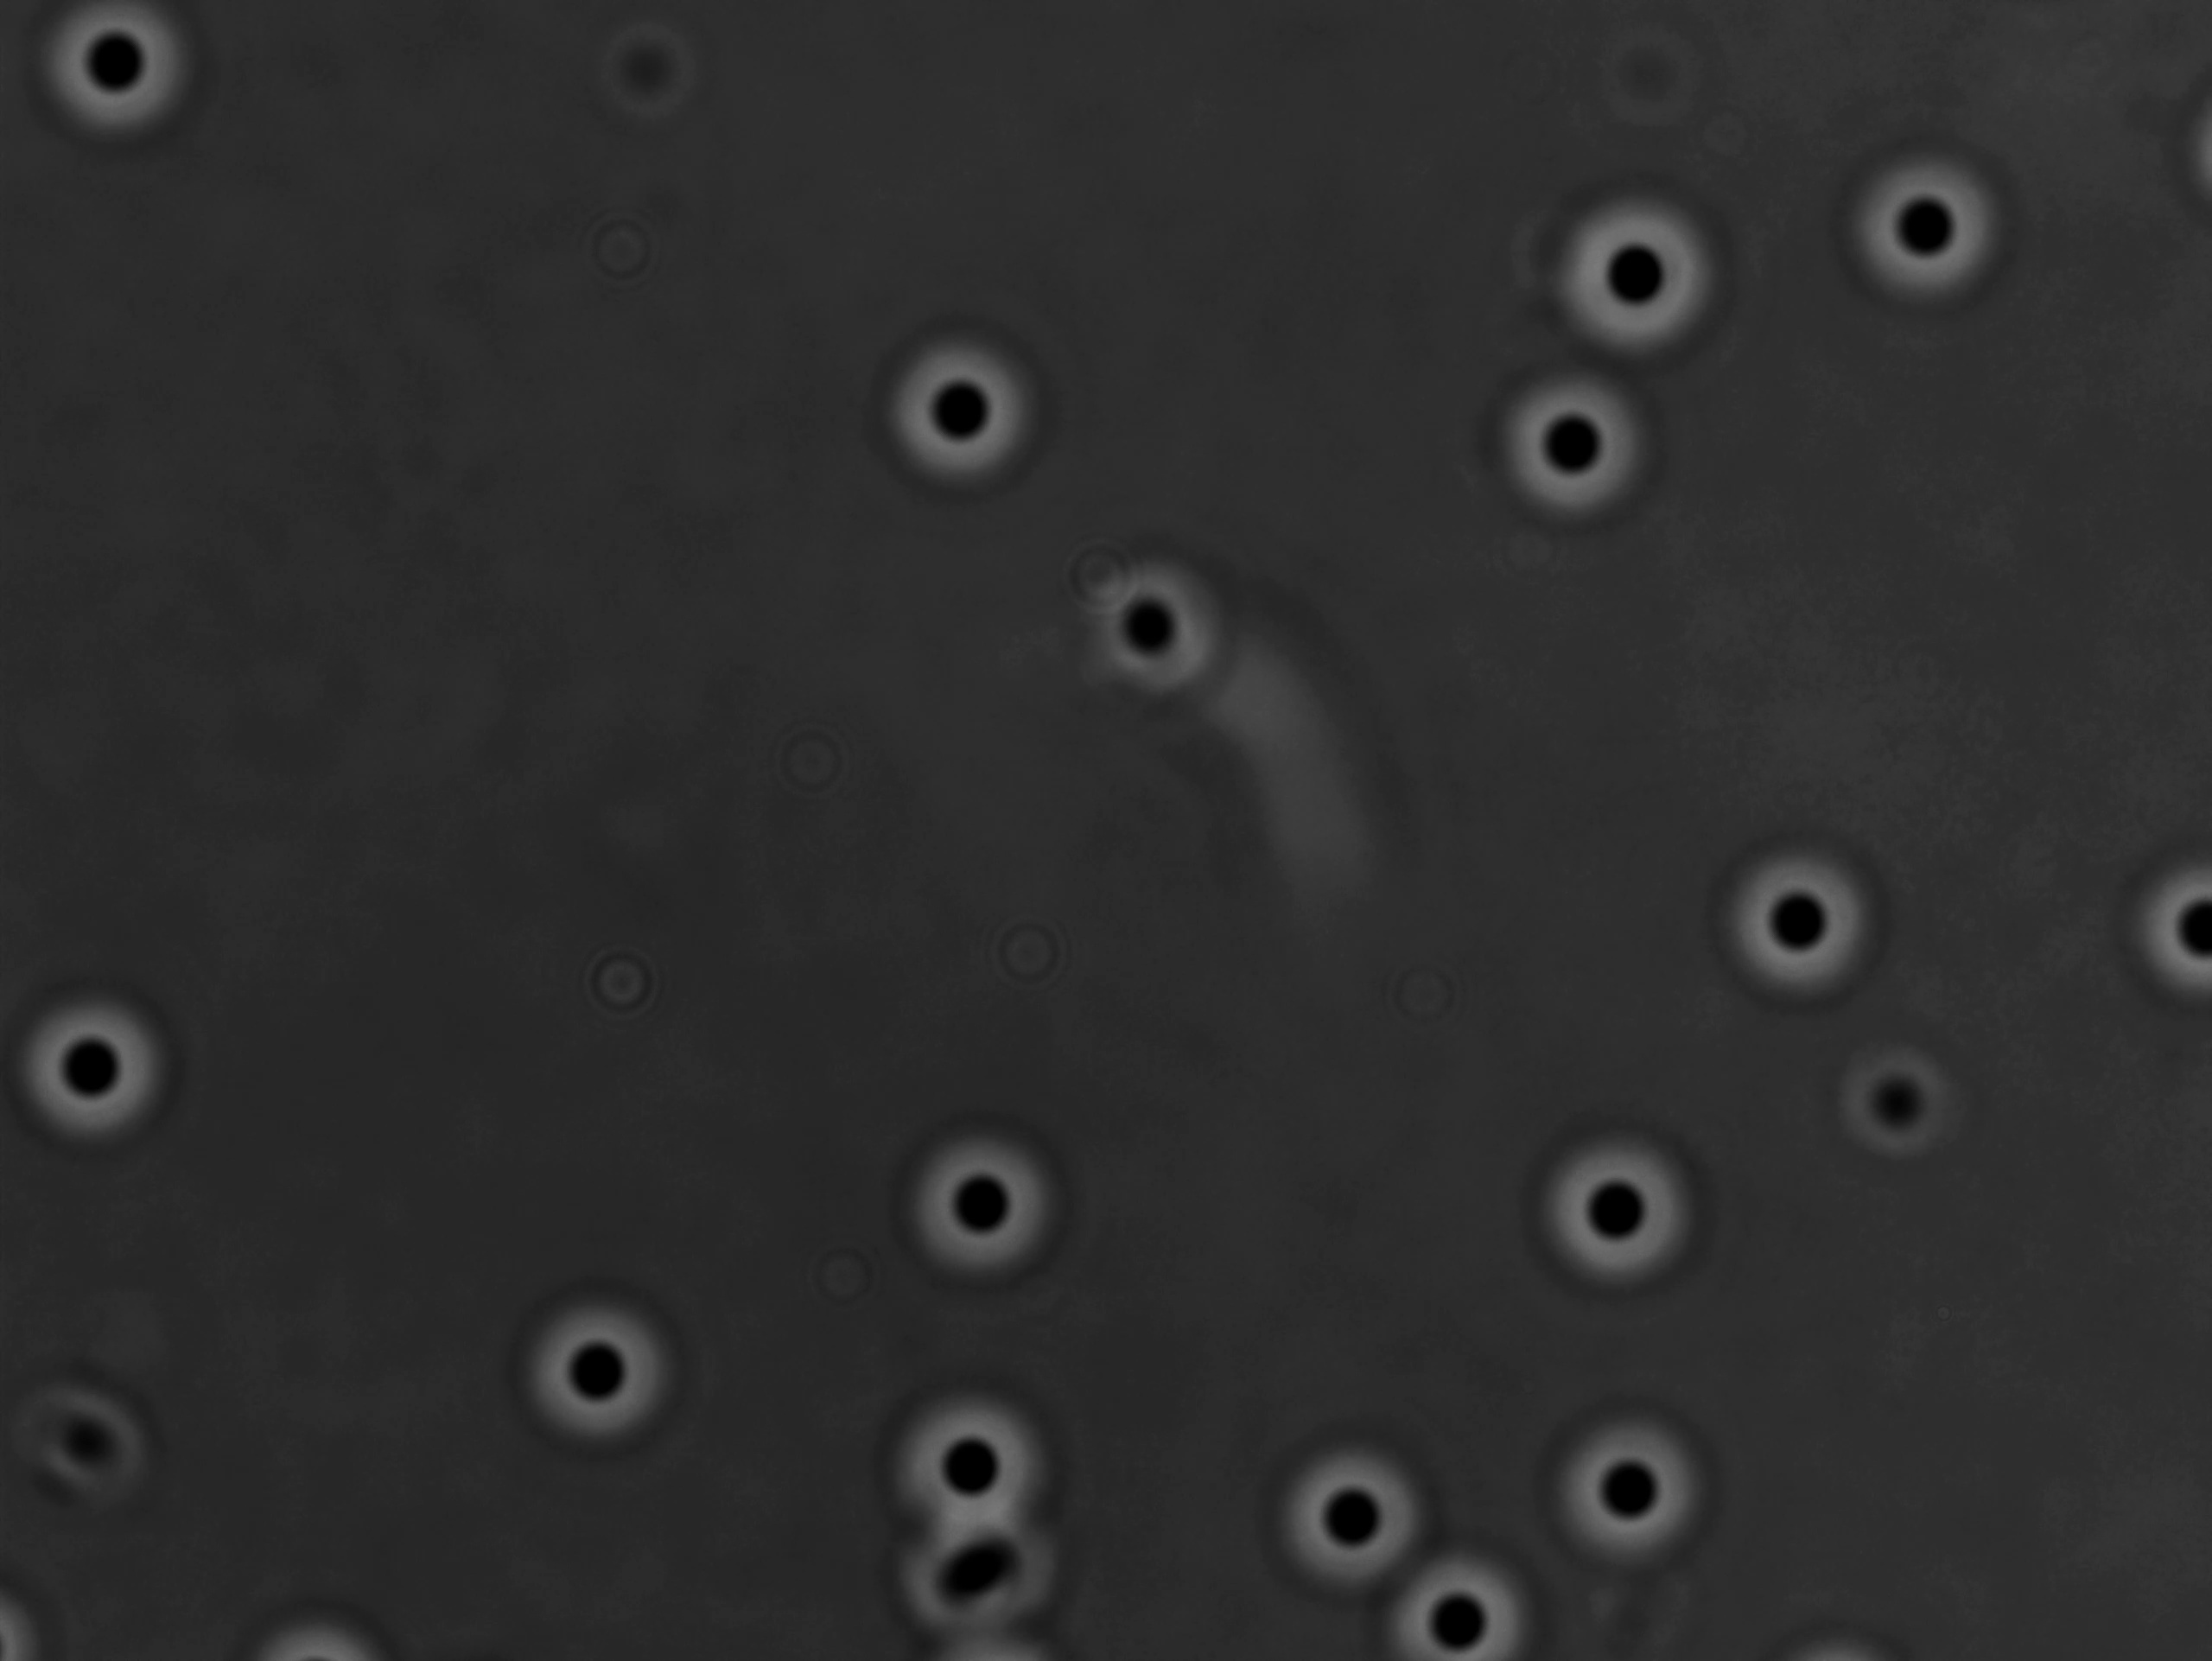depth:-40: (1828, 126, 2032, 318), (1711, 834, 1888, 1010), (870, 323, 1047, 497), (1532, 1418, 1717, 1584), (1265, 1424, 1439, 1595), (1530, 1122, 1703, 1291), (16, 988, 181, 1155), (1485, 365, 1657, 523), (891, 1127, 1057, 1288), (515, 1291, 679, 1452), (1558, 190, 1724, 345), (893, 1389, 1052, 1546), (1376, 1548, 1546, 1661), (2120, 830, 2212, 993)
